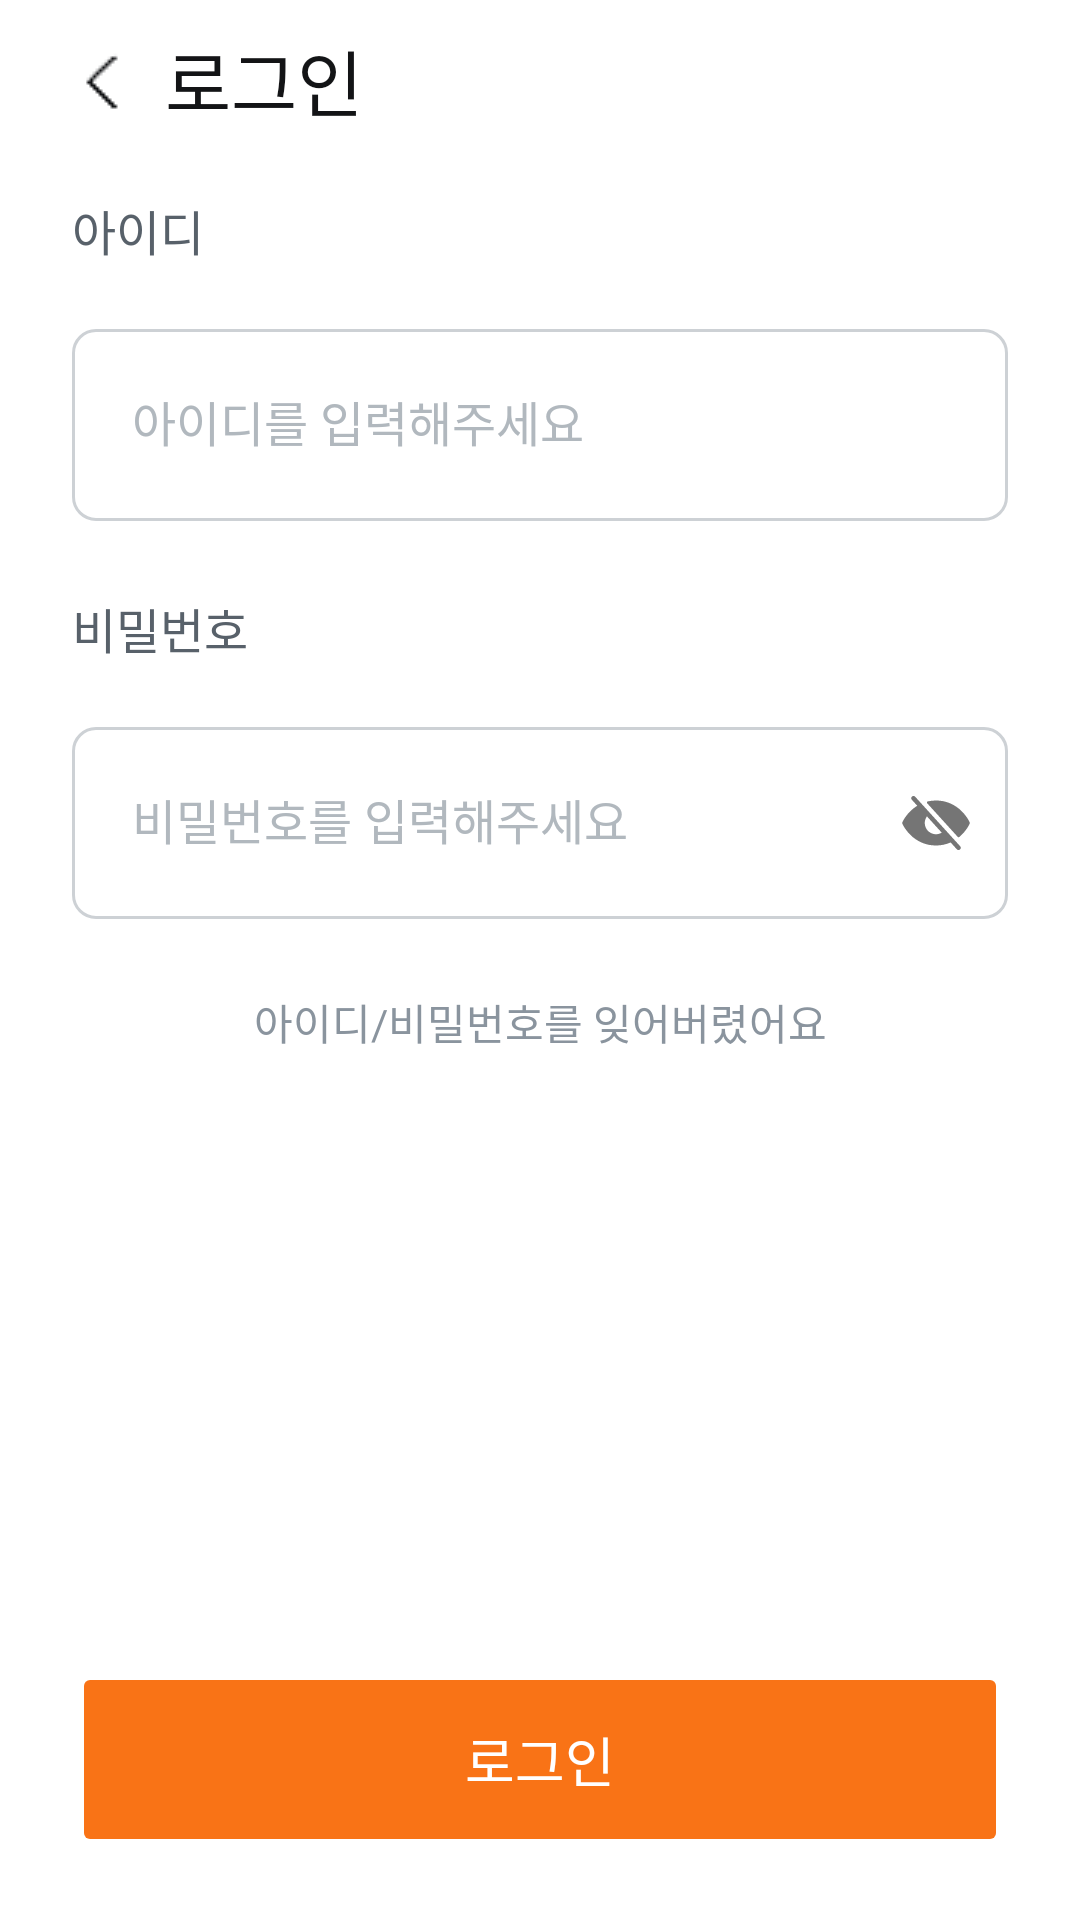

Screen size 1080×1920. Icon name, then its center in pixels as (x,y):
back: (102,82)
